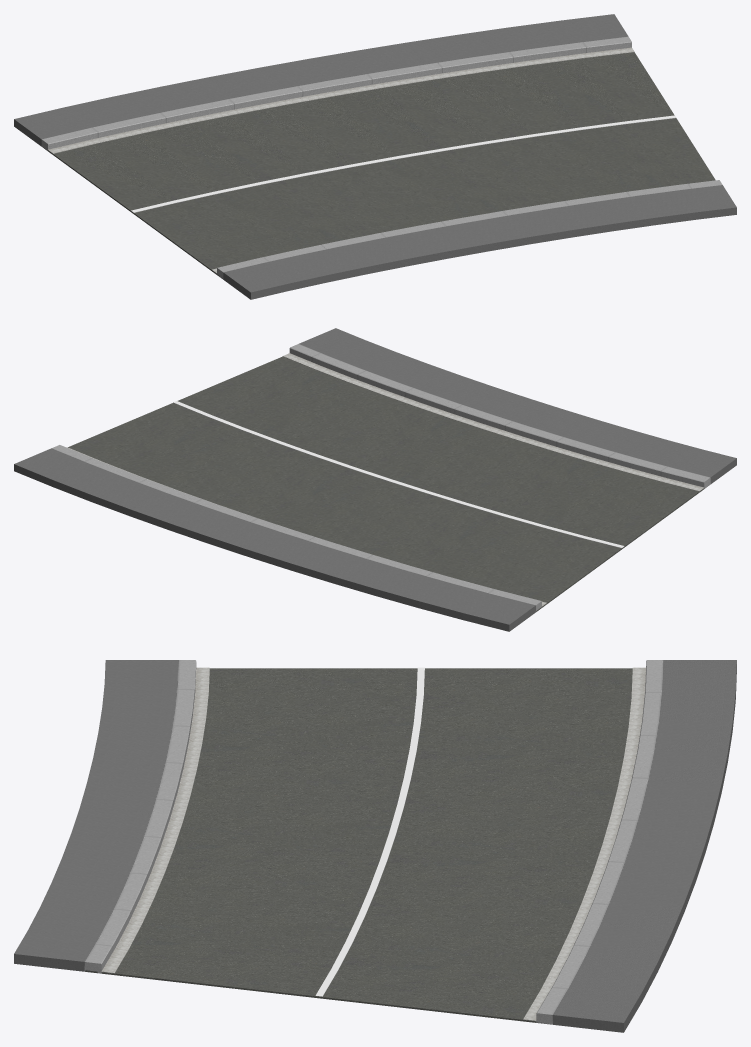
File: sweethome3d-scopia-curved-road-2-lanes-13m.glb
3 views of the same model, one above another, from view 1: azimuth 30°, elevation 25°; view 2: azimuth 150°, elevation 25°; view 3: azimuth 270°, elevation 25° (orthographic). The views are drawn at different scales.
Parts seen in each view (by area): view 1: roadCourbe2VoiesAvecTrottoirs_Plane.020; view 2: roadCourbe2VoiesAvecTrottoirs_Plane.020; view 3: roadCourbe2VoiesAvecTrottoirs_Plane.020.
Boxes of the visible parts, box(x1,y1,x2,y2) form: roadCourbe2VoiesAvecTrottoirs_Plane.020: box(14, 14, 736, 299); roadCourbe2VoiesAvecTrottoirs_Plane.020: box(14, 328, 736, 631); roadCourbe2VoiesAvecTrottoirs_Plane.020: box(14, 660, 736, 1032).
Bounding box in the file's own units: 1421 × 18 × 1197.
Materials: 12 (9 with a texture image).
